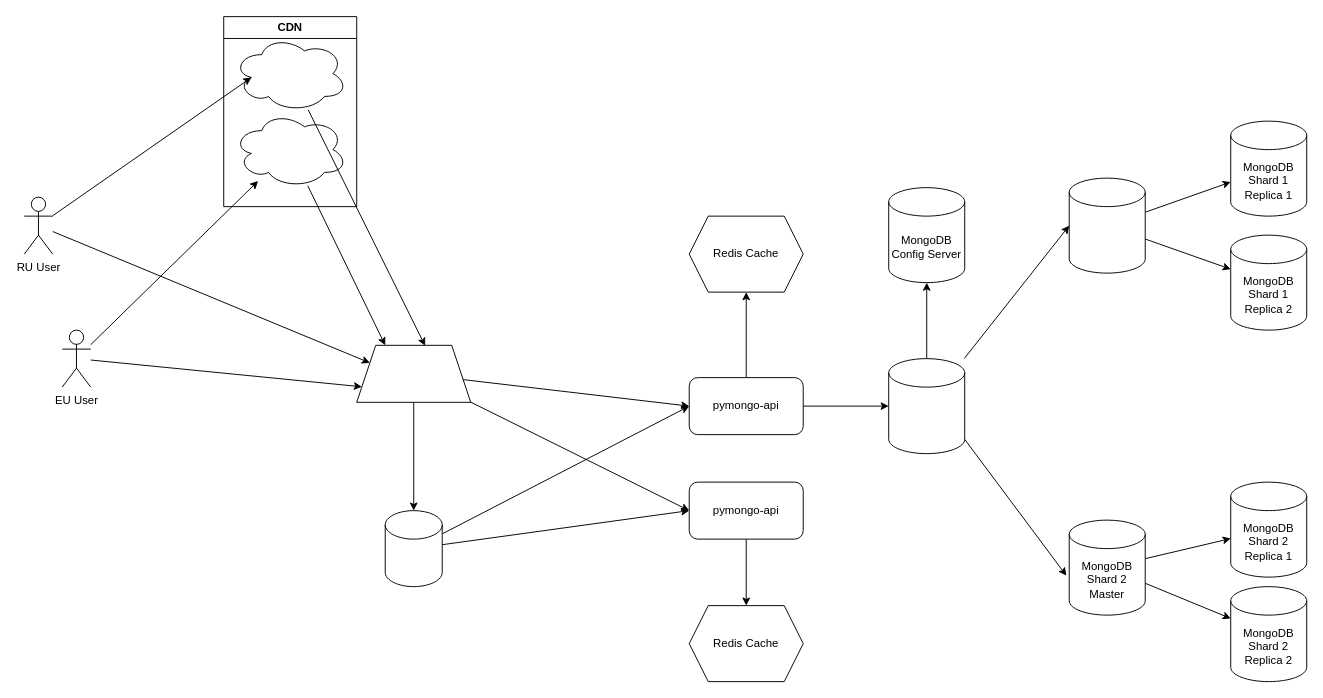
This 1323x698 diagram has some shape labels left out. Each missing label, with the centre of its shape:
API Gateway: the point at 413,373
Consul: the point at 413,548
EU: the point at 289,149
MongoDB Router: the point at 926,406
MongoDB Shard 1 Master: the point at 1106,225
RU: the point at 289,73
